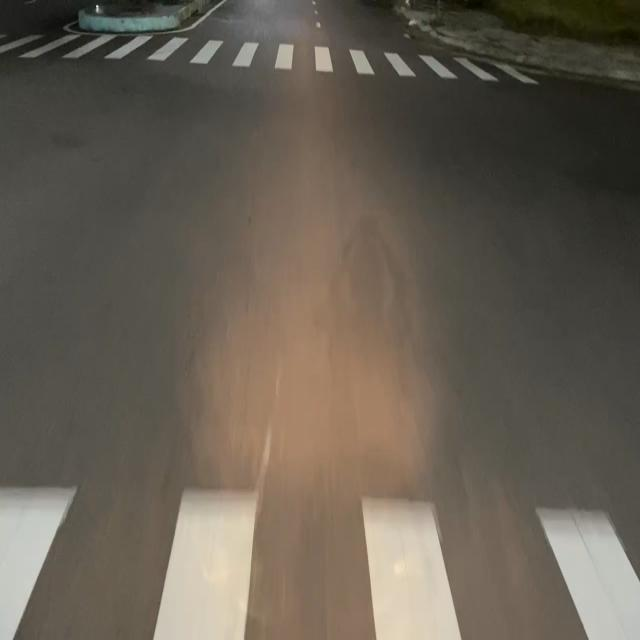walk-crossing: (0, 484, 640, 640), (0, 27, 541, 92)
